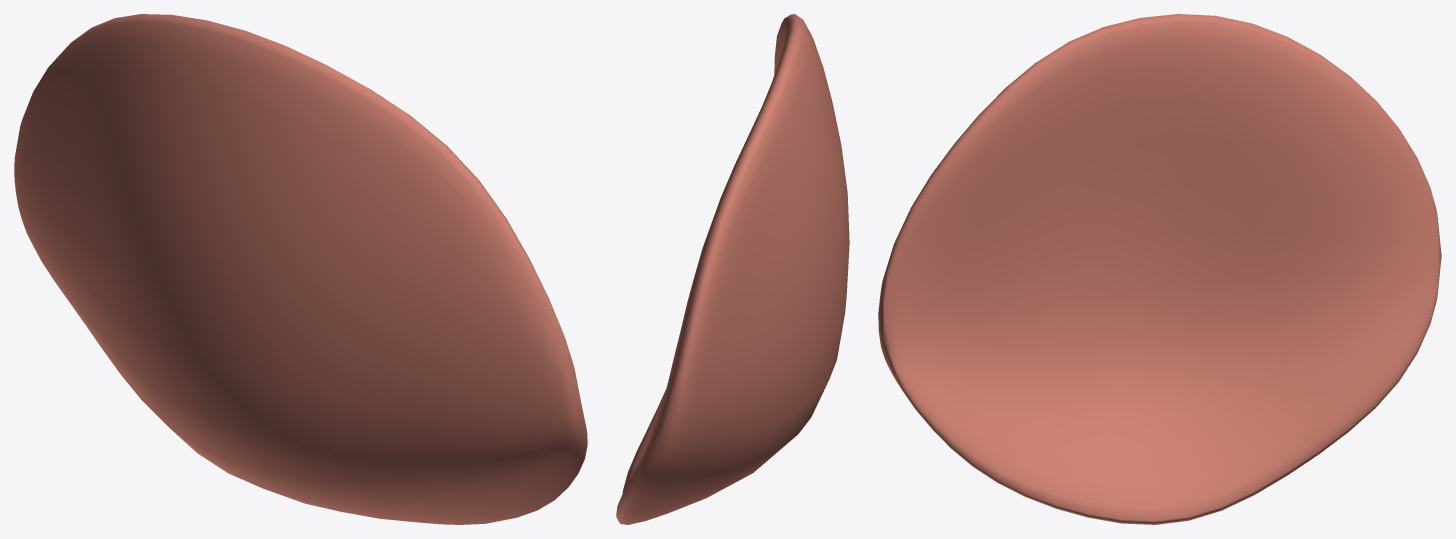
3 renders of one model, left to right at view 1: azimuth 30°, elevation 25°; view 2: azimuth 150°, elevation 25°; view 3: azimuth 270°, elevation 25°, orthographic. The views are drawn at different scales.
Visible parts, largest first — view 1: 右侧三角肌下囊; view 2: 右侧三角肌下囊; view 3: 右侧三角肌下囊.
Part boxes in pixels (x1,y1,x2,y2): 右侧三角肌下囊: (14,14,587,524); 右侧三角肌下囊: (616,14,849,524); 右侧三角肌下囊: (878,14,1441,524).
Size of the model in its own units: 0.0199 by 0.0366 by 0.0426.
